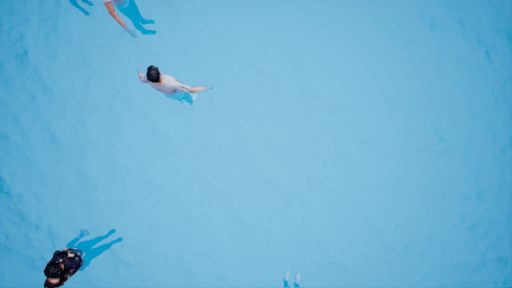person: (37, 231, 121, 288), (135, 59, 216, 110)
